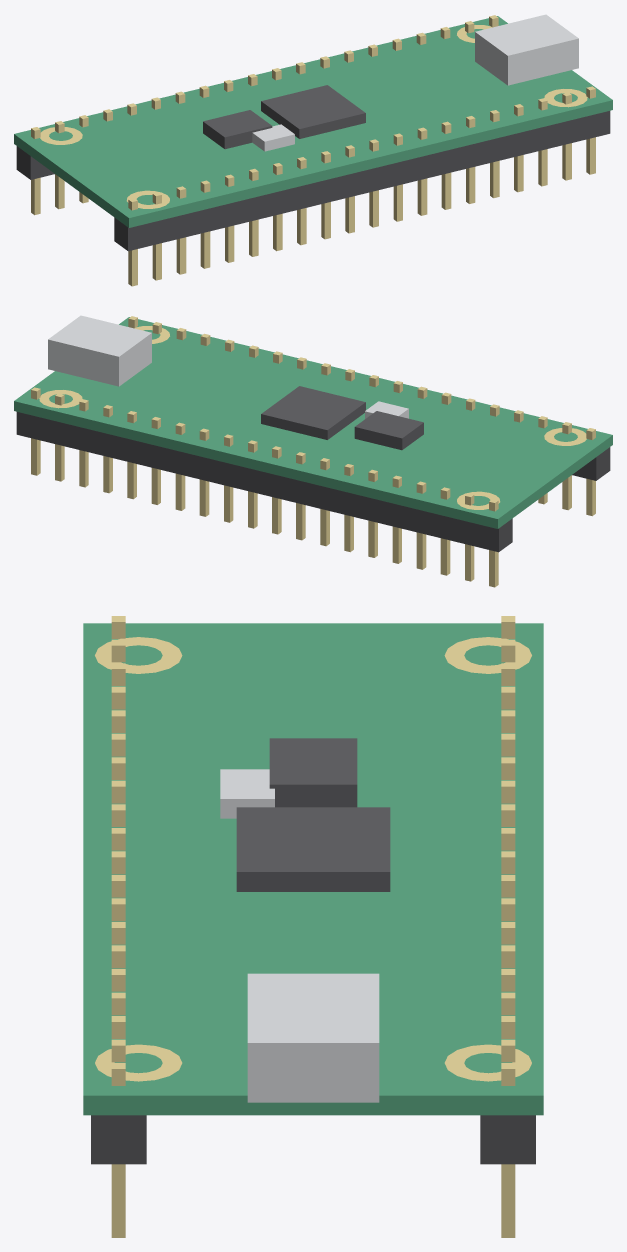
File: rpi-pico.glb
3 renders of one model, top to bottom at view 1: azimuth 30°, elevation 25°; view 2: azimuth 150°, elevation 25°; view 3: azimuth 270°, elevation 25°, orthographic. The views are drawn at different scales.
Visible parts, largest first — view 1: rpi-pico-pcb, rpi-pico-pins, rpi-pico-plastic, rpi-pico-metal, rpi-pico-ic, rpi-pico-mounting-pads; view 2: rpi-pico-pcb, rpi-pico-pins, rpi-pico-plastic, rpi-pico-metal, rpi-pico-ic, rpi-pico-mounting-pads; view 3: rpi-pico-pcb, rpi-pico-metal, rpi-pico-ic, rpi-pico-pins, rpi-pico-mounting-pads, rpi-pico-plastic.
Part boxes in pixels (x1,y1,x2,y2): rpi-pico-pcb: (14, 16, 612, 227); rpi-pico-pins: (31, 15, 595, 286); rpi-pico-plastic: (16, 111, 610, 251); rpi-pico-metal: (252, 14, 578, 151); rpi-pico-ic: (203, 85, 365, 149); rpi-pico-mounting-pads: (40, 25, 587, 208); rpi-pico-pcb: (14, 317, 612, 528); rpi-pico-pins: (31, 316, 595, 587); rpi-pico-plastic: (16, 412, 610, 552); rpi-pico-metal: (48, 315, 408, 418); rpi-pico-ic: (261, 386, 423, 450); rpi-pico-mounting-pads: (39, 326, 586, 509); rpi-pico-pcb: (83, 623, 543, 1115); rpi-pico-metal: (220, 769, 379, 1102); rpi-pico-ic: (236, 738, 390, 891); rpi-pico-pins: (111, 616, 515, 1237); rpi-pico-mounting-pads: (95, 637, 531, 1081); rpi-pico-plastic: (91, 1115, 535, 1164).
Bounding box in the file's own units: 0.0517 × 0.0107 × 0.021.
